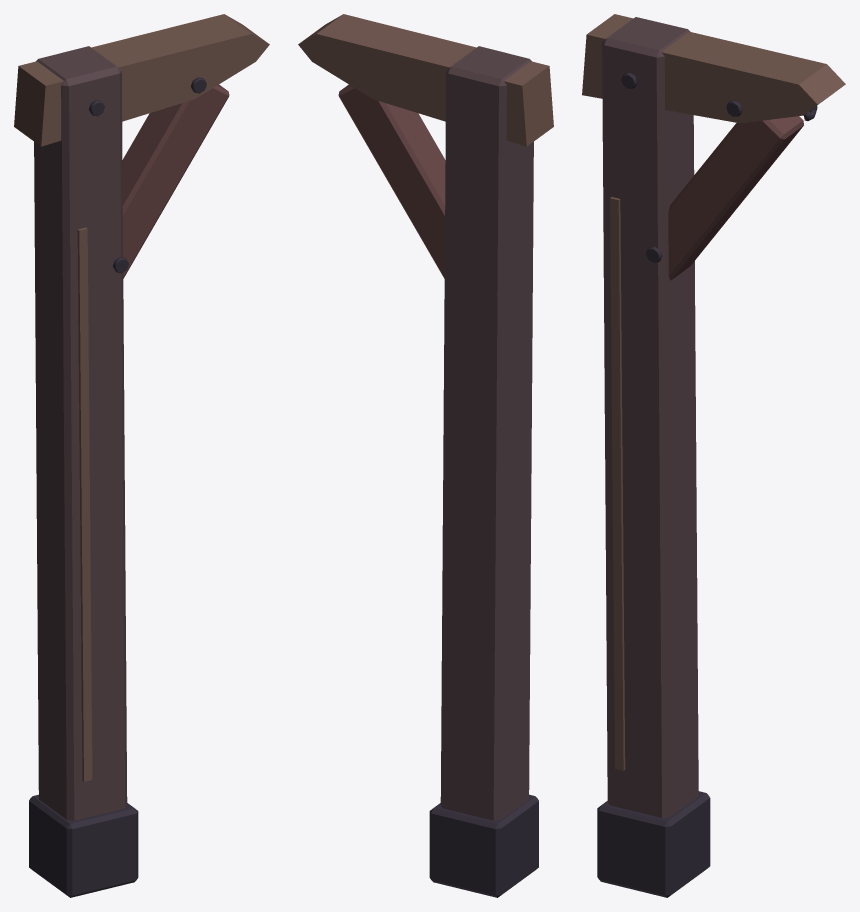
Rendered from bell_post.glb.
3 views of the same model, side by side, from view 1: azimuth 30°, elevation 25°; view 2: azimuth 150°, elevation 25°; view 3: azimuth 330°, elevation 25° (orthographic). The views are drawn at different scales.
Parts seen in each view (by area): view 1: bell_post; view 2: bell_post; view 3: bell_post.
Part boxes in pixels (box(x1,y1,x2,y2)): bell_post: box(14, 14, 269, 897); bell_post: box(298, 14, 553, 897); bell_post: box(582, 14, 845, 897).
Bounding box in the file's own units: 0.572 × 1.95 × 0.182.
